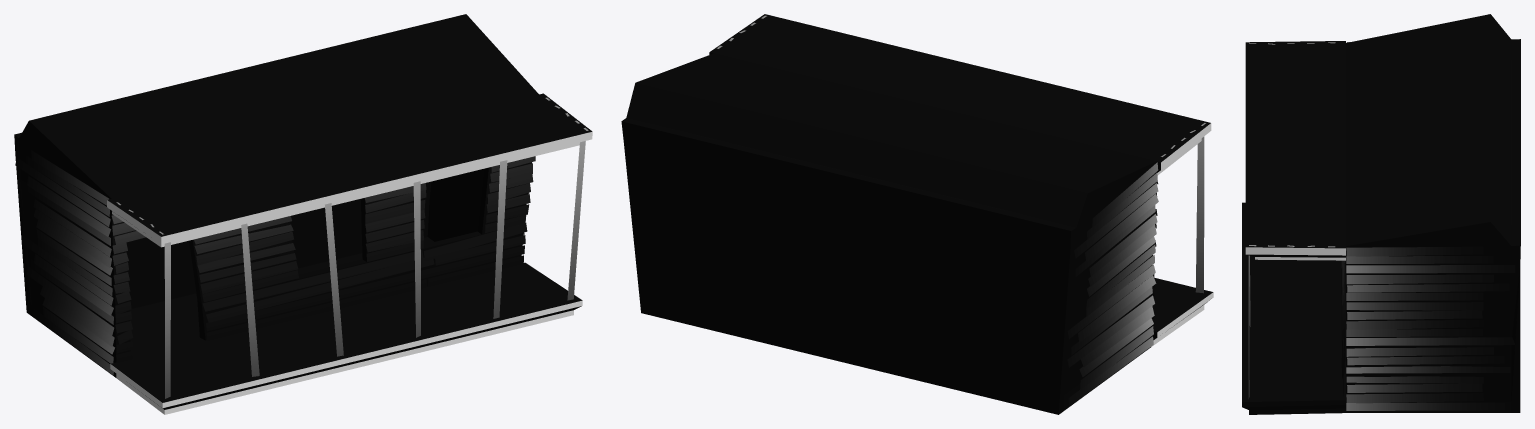
Rendered from Building8.glb.
3 renders of one model, left to right at view 1: azimuth 30°, elevation 25°; view 2: azimuth 150°, elevation 25°; view 3: azimuth 270°, elevation 25°, orthographic. The views are drawn at different scales.
Parts seen in each view (by area): view 1: Building8; view 2: Building8; view 3: Building8.
Boxes of the visible parts, x1,y1,x2,y2 form: Building8: (14, 14, 592, 414); Building8: (621, 14, 1213, 414); Building8: (1242, 14, 1520, 414).
Size of what is drawn, in the model's own units: 12.65 by 5.65 by 7.1.
1 material, 1 textured.
